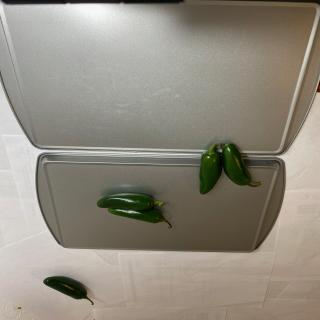Chilli: (96, 192, 172, 229)
Tomato: (222, 143, 262, 187), (43, 276, 94, 305), (107, 208, 172, 228), (199, 143, 223, 194), (96, 192, 164, 210)
